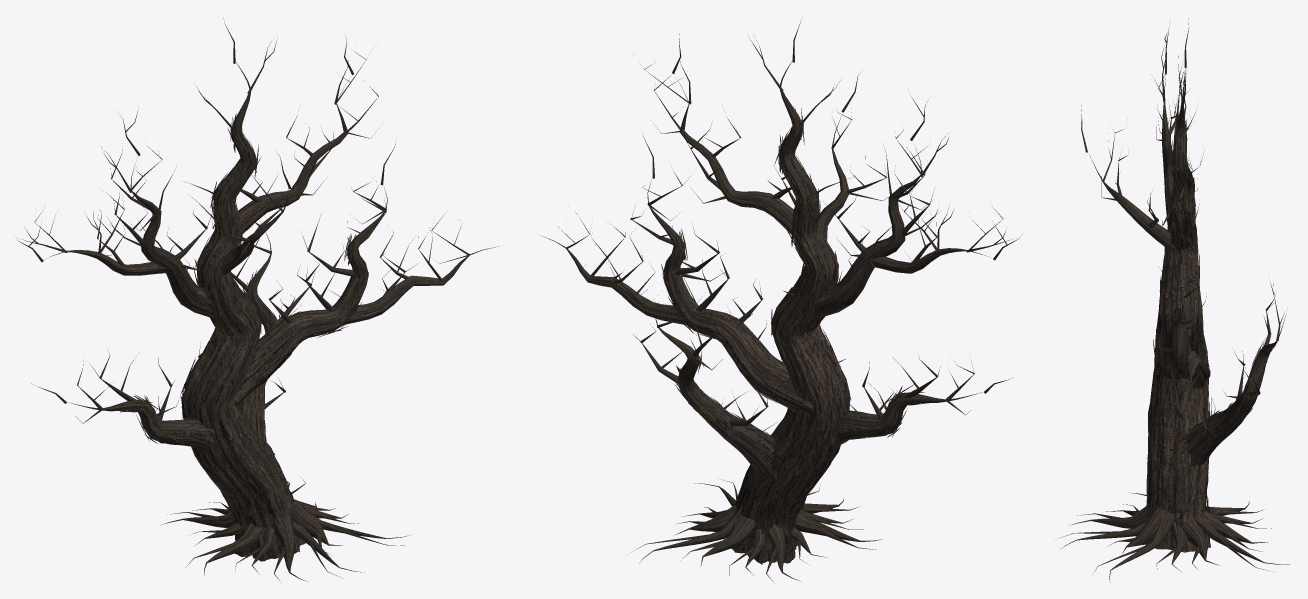
Rendered from tree-v5.glb.
3 renders of one model, left to right at view 1: azimuth 30°, elevation 25°; view 2: azimuth 150°, elevation 25°; view 3: azimuth 270°, elevation 25°, orthographic. The views are drawn at different scales.
Visible parts, largest first — view 1: Sculpted bark roots and fine branches; view 2: Sculpted bark roots and fine branches; view 3: Sculpted bark roots and fine branches.
Part boxes in pixels (box(x1,y1,x2,y2)): Sculpted bark roots and fine branches: box(17, 18, 498, 582); Sculpted bark roots and fine branches: box(541, 20, 1021, 581); Sculpted bark roots and fine branches: box(1060, 18, 1289, 581).
Size of the model in its own units: 6.29 by 6.7 by 2.84.
Materials: 1 (1 with a texture image).
